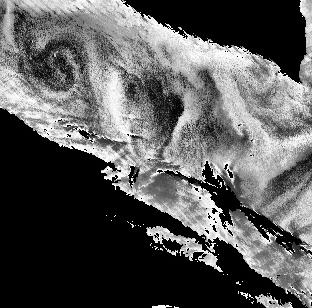CE: (23, 24, 104, 103)
